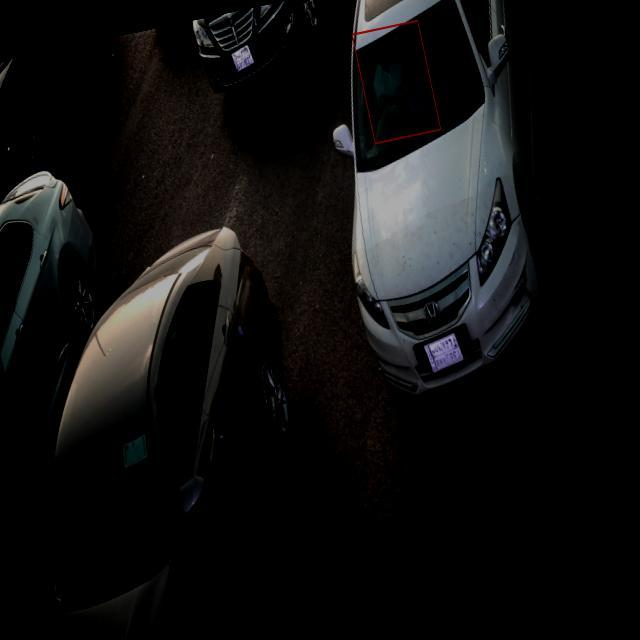windshield: (47, 408, 174, 610), (348, 0, 488, 172)
